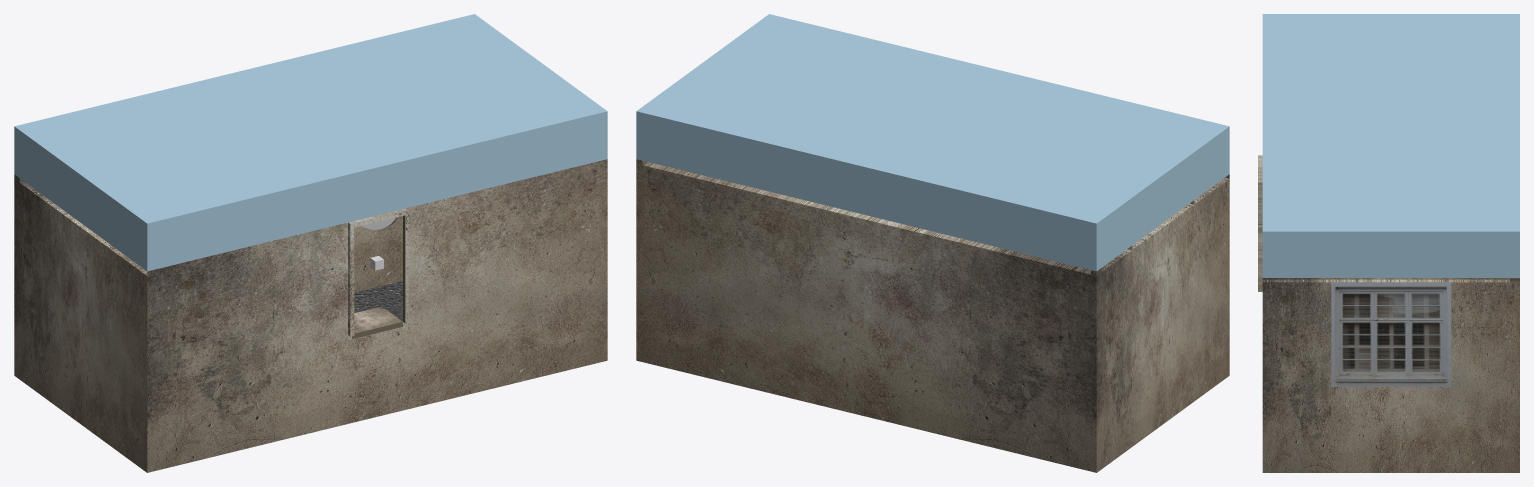
3 renders of one model, left to right at view 1: azimuth 30°, elevation 25°; view 2: azimuth 150°, elevation 25°; view 3: azimuth 270°, elevation 25°, orthographic. The views are drawn at different scales.
Parts seen in each view (by area): view 1: Cube; view 2: Cube; view 3: Cube.
Part boxes in pixels (x1=…): Cube: x1=14, y1=14, x2=607, y2=472; Cube: x1=636, y1=14, x2=1229, y2=472; Cube: x1=1258, y1=14, x2=1519, y2=472.
Size of the model in its own units: 10.62 by 5.5 by 5.4.
Materials: 9 (5 with a texture image).
